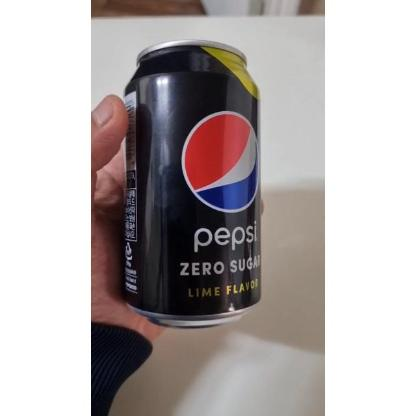Can: (124, 39, 262, 327)
